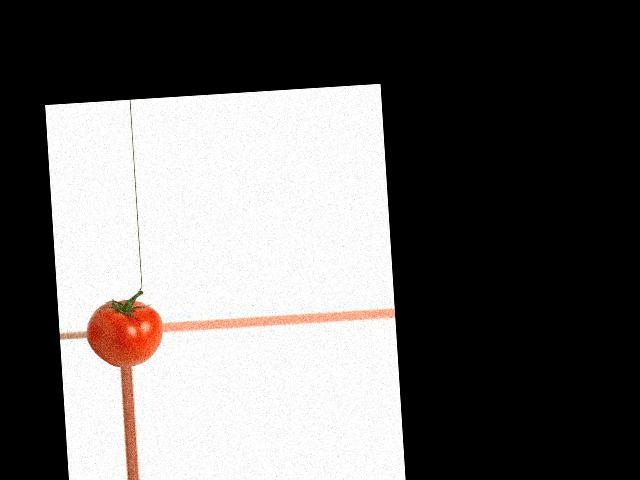tomato: (84, 297, 165, 368)
